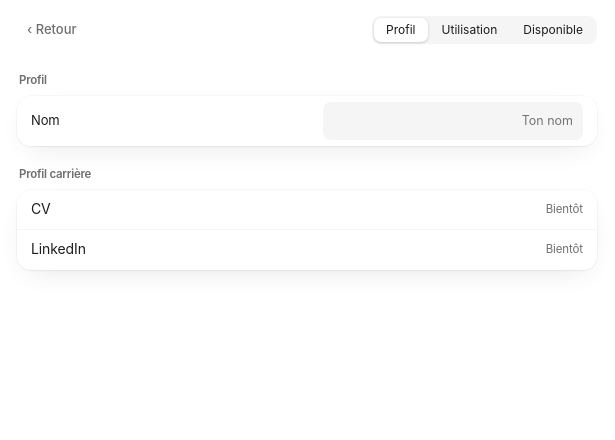
Scenario: paramètres v3 › Utilisation montre la vraie consommation, les réglages sans API restent inactifs
Click the tab "Utilisation": (469, 30) [430, 18, 509, 42]
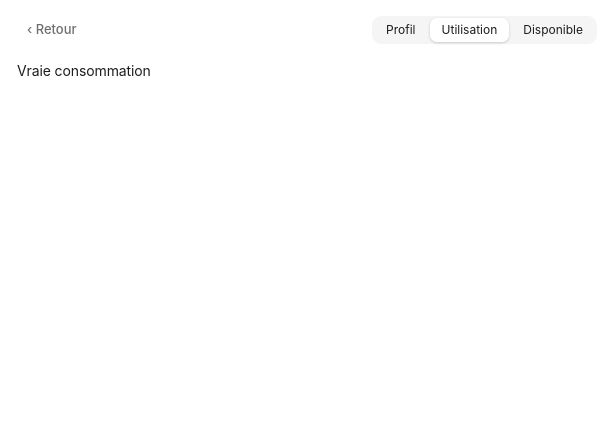
Result: the text "Vraie consommation" is shown at [17, 62, 151, 79]
Click the tab "Disponible": (553, 30) [511, 18, 595, 42]
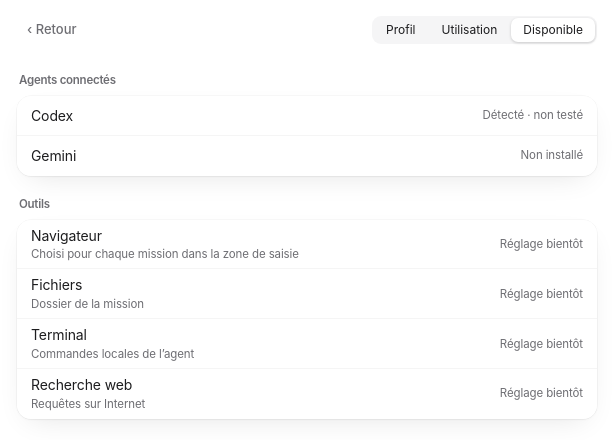
Result: the text "Réglage bientôt" is shown 4 times at [500, 236, 583, 253]; [500, 286, 583, 303]; [500, 336, 583, 353]; [500, 385, 583, 403]
